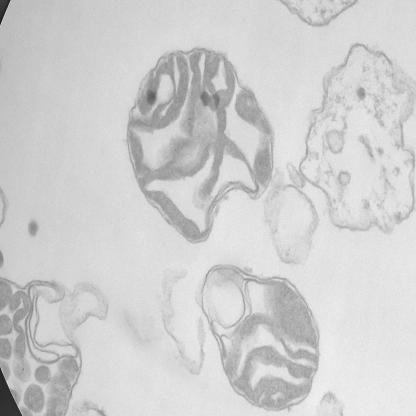mitochondria: (124, 48, 276, 242), (200, 264, 321, 411)
